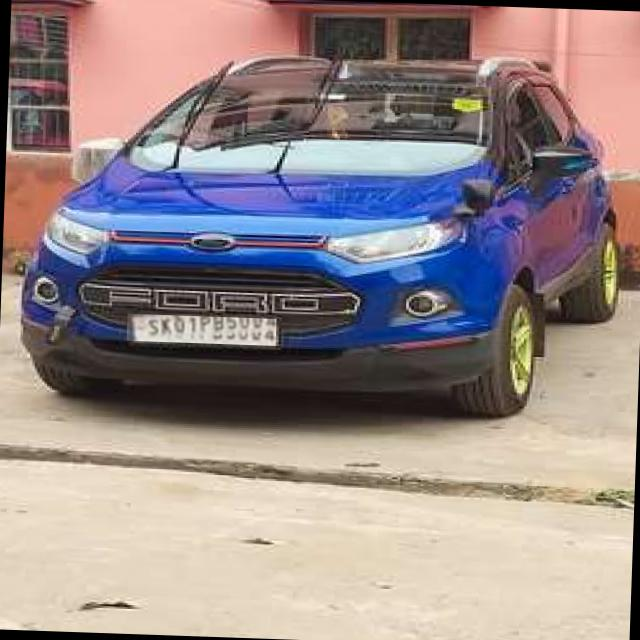Plate: (127, 315, 277, 347)
